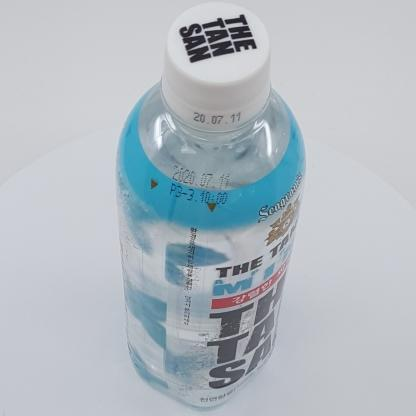------------450ML: (115, 2, 306, 411)
